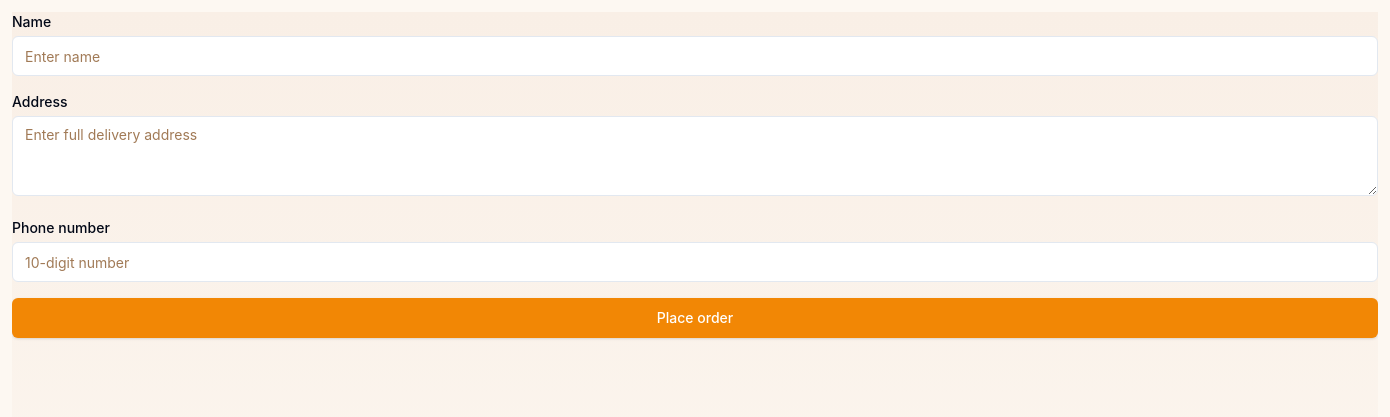
CheckoutForm › shows validation errors for invalid input
The width and height of the screenshot is (1390, 417).
Click the button "Place order" at (695, 318), box [12,298,1378,338]
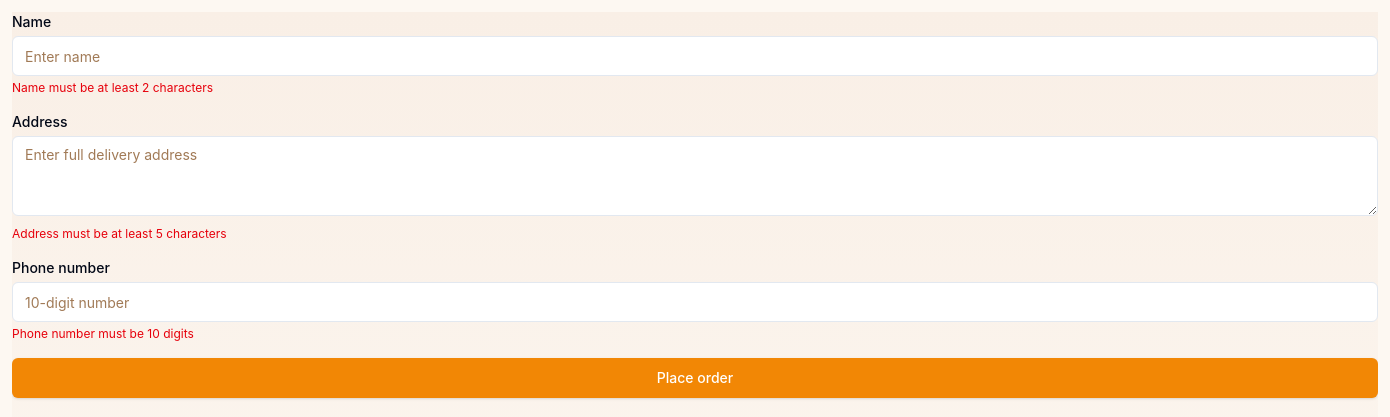
Check: the text "Name must be at least 2 characters" is shown, box [12,80,213,95]
Check: the text "Address must be at least 5 characters" is shown, box [12,226,227,241]
Check: the text "Phone number must be 10 digits" is shown, box [12,326,194,341]
